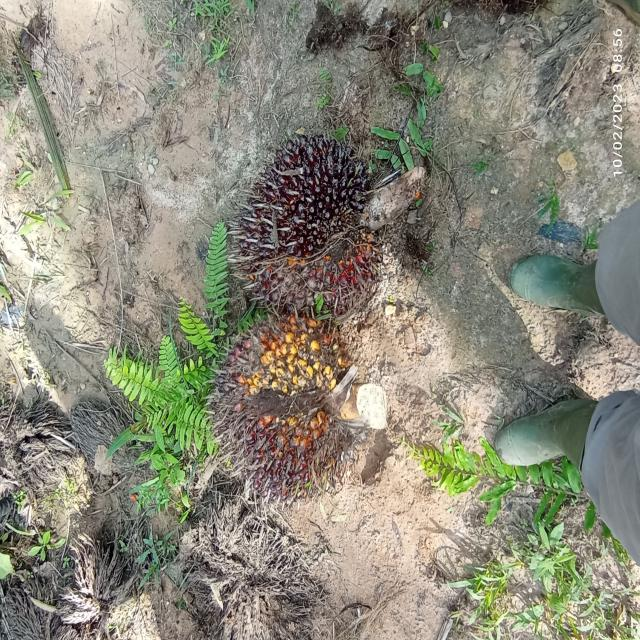fraksi 00: (218, 124, 404, 330)
fraksi 1: (182, 320, 388, 506)
